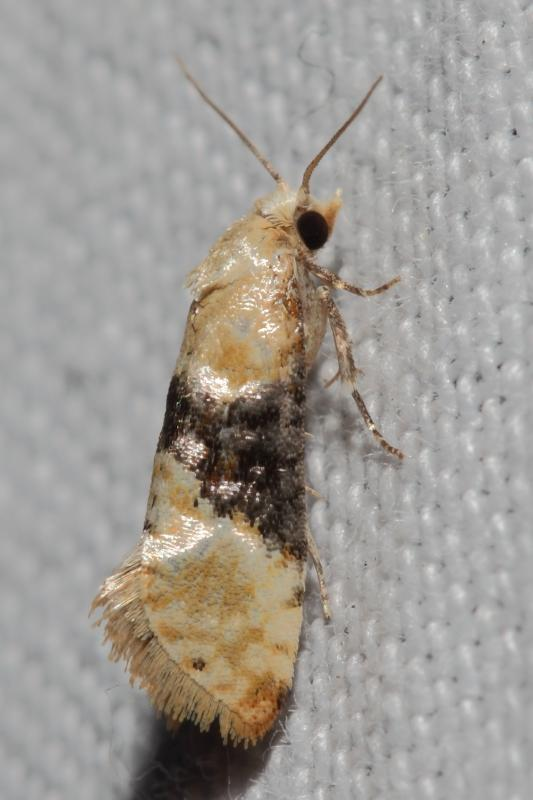Eupoecilia Ambiguella: (87, 52, 407, 751)
